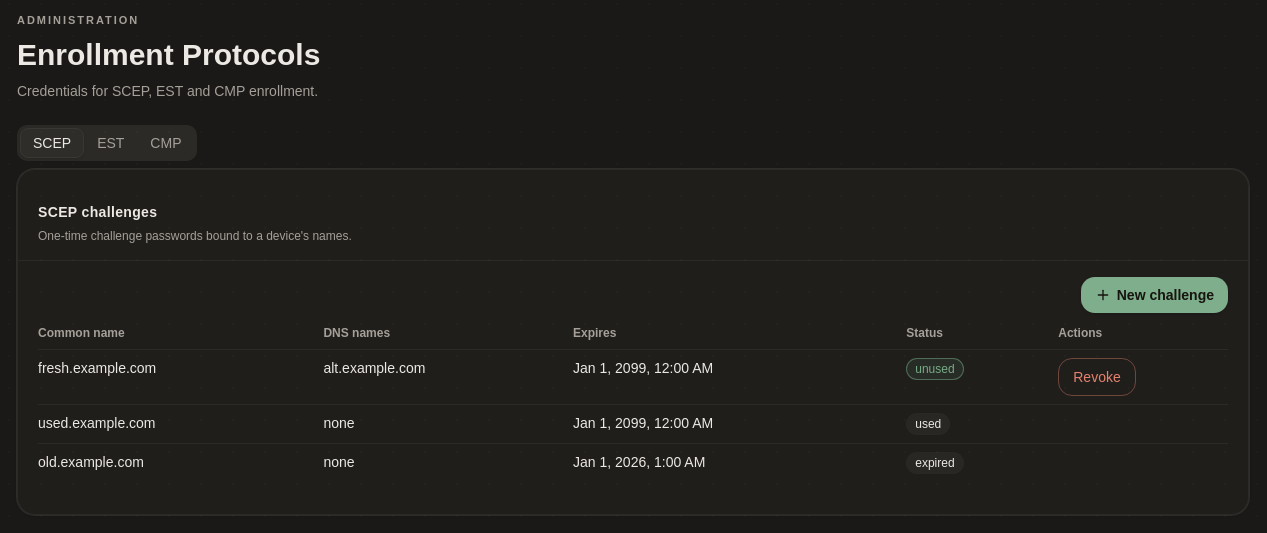
Scenario: Enrollment protocols page › shadowed-by-file badge shown
Click the tab "EST": (111, 142) top-left (84, 128), bottom-right (137, 158)
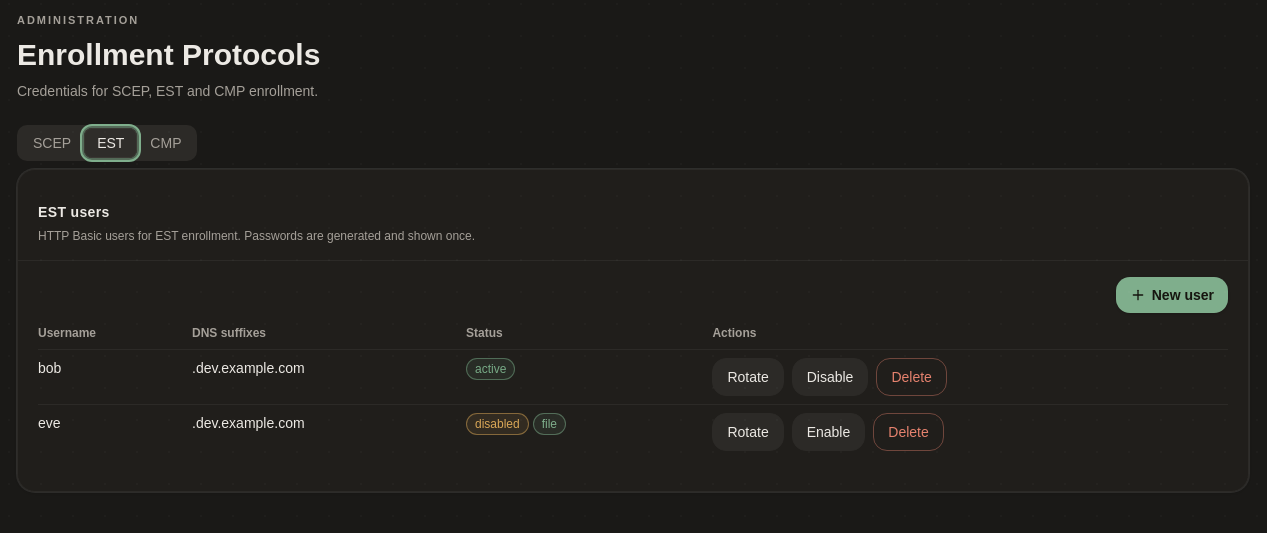
Check: the element titled "the file wins" is shown, box top-left (533, 412), bottom-right (566, 434)
